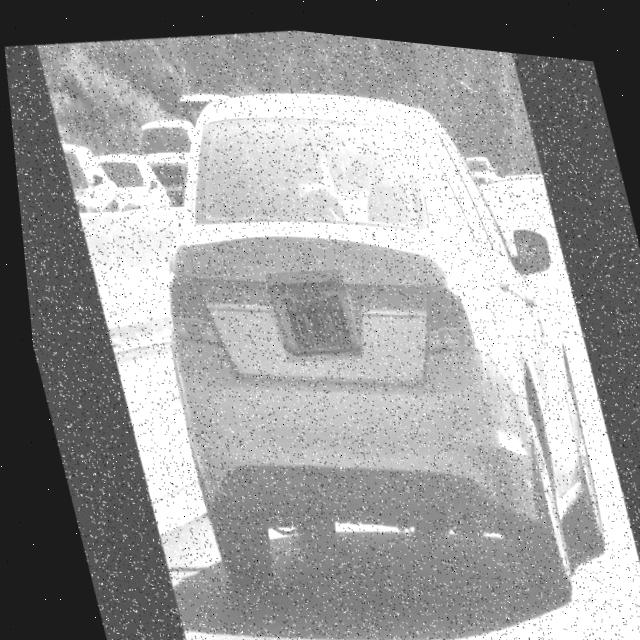LicensePlate: (259, 256, 357, 364)
